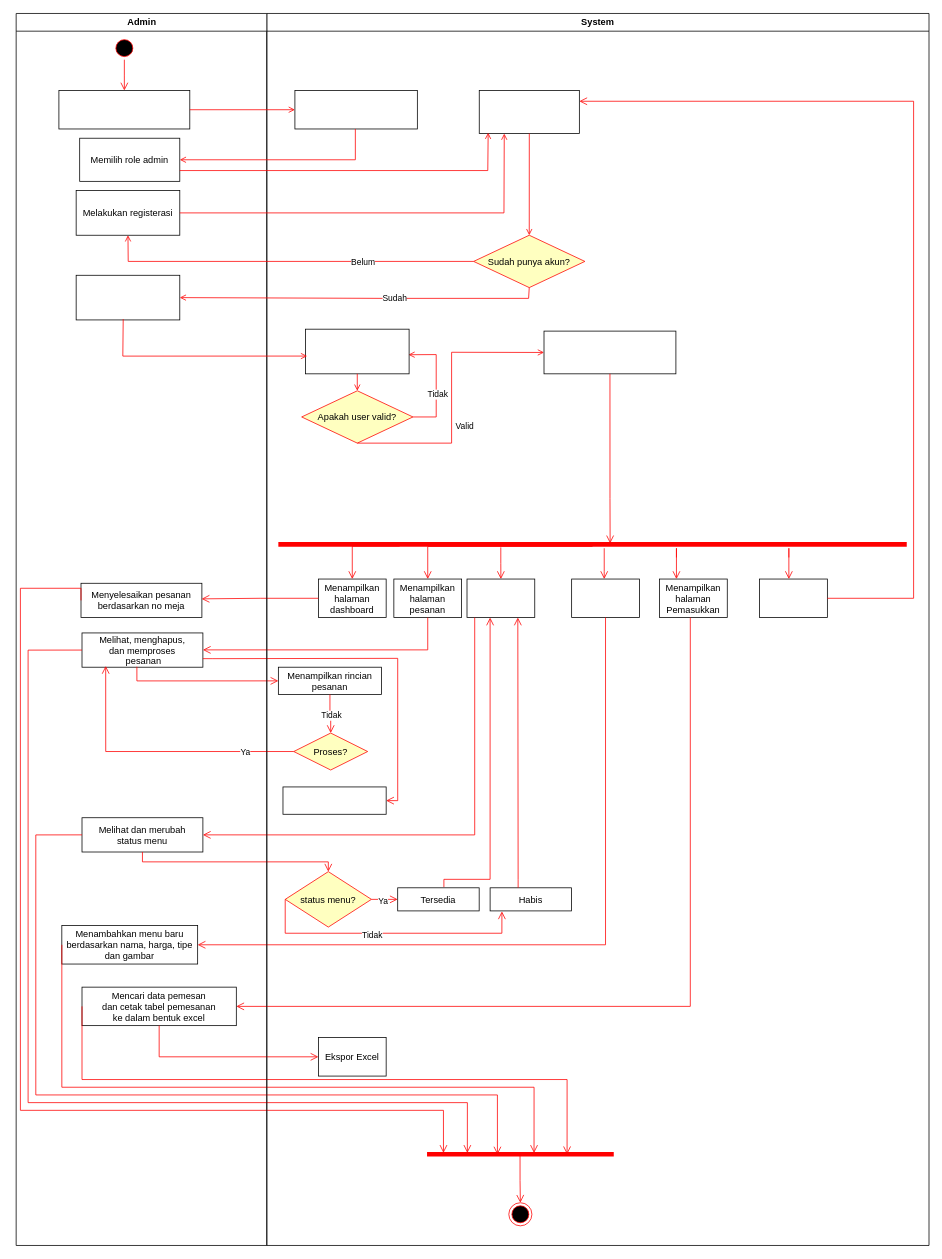
The diagram is 942 pixels wide and 1259 high, and some of its shapes have lost their labels. Here are the shapes that lost their labels. From the top down, the centre of each, then its label:
the point at 124,109: Membuka website Portal admin/kasir
the point at 355,109: Menampilkan halaman portal
the point at 528,112: Menampilkan halaman login
the point at 127,297: Memasukkan username dan password
the point at 357,351: Memvalidasi user
the point at 609,352: Menampilkan halaman admin
the point at 500,598: Menampilkan halaman stok menu
the point at 605,598: Menampilkan halaman tambah menu
the point at 793,598: Logout
the point at 334,800: Menghapus Pesanan
